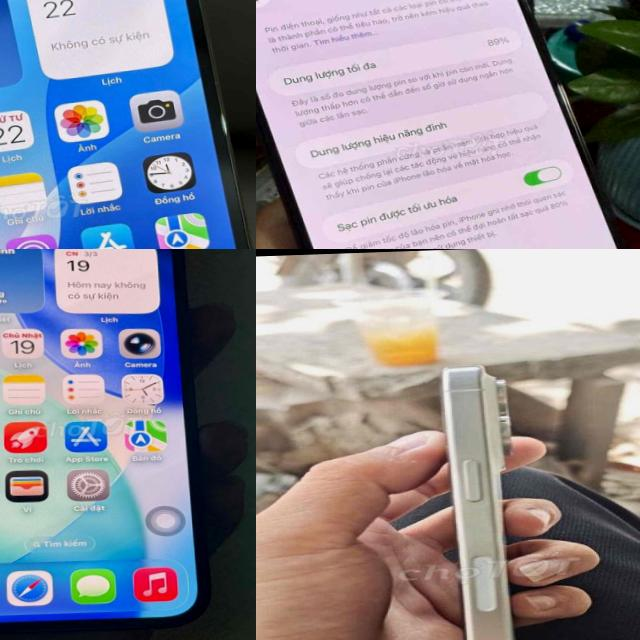gen_12_13: (0, 249, 206, 640), (0, 0, 256, 249)
gen_14: (256, 0, 640, 249)
gen_15: (393, 350, 583, 640)
